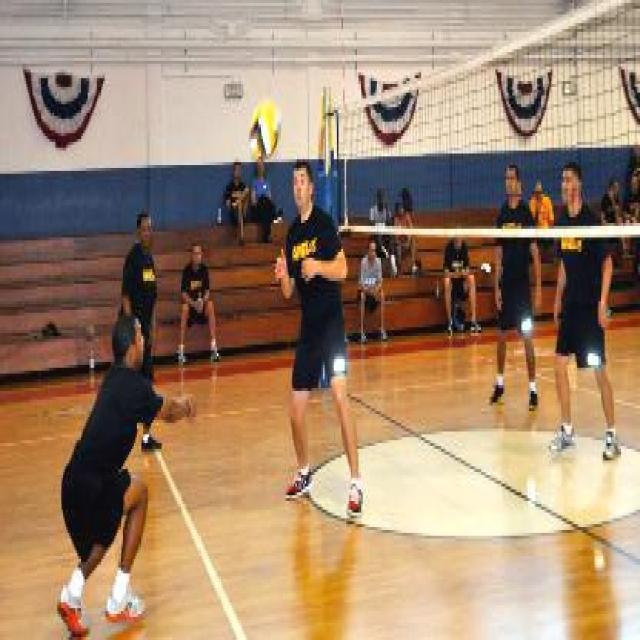volleyball: (249, 102, 280, 160)
